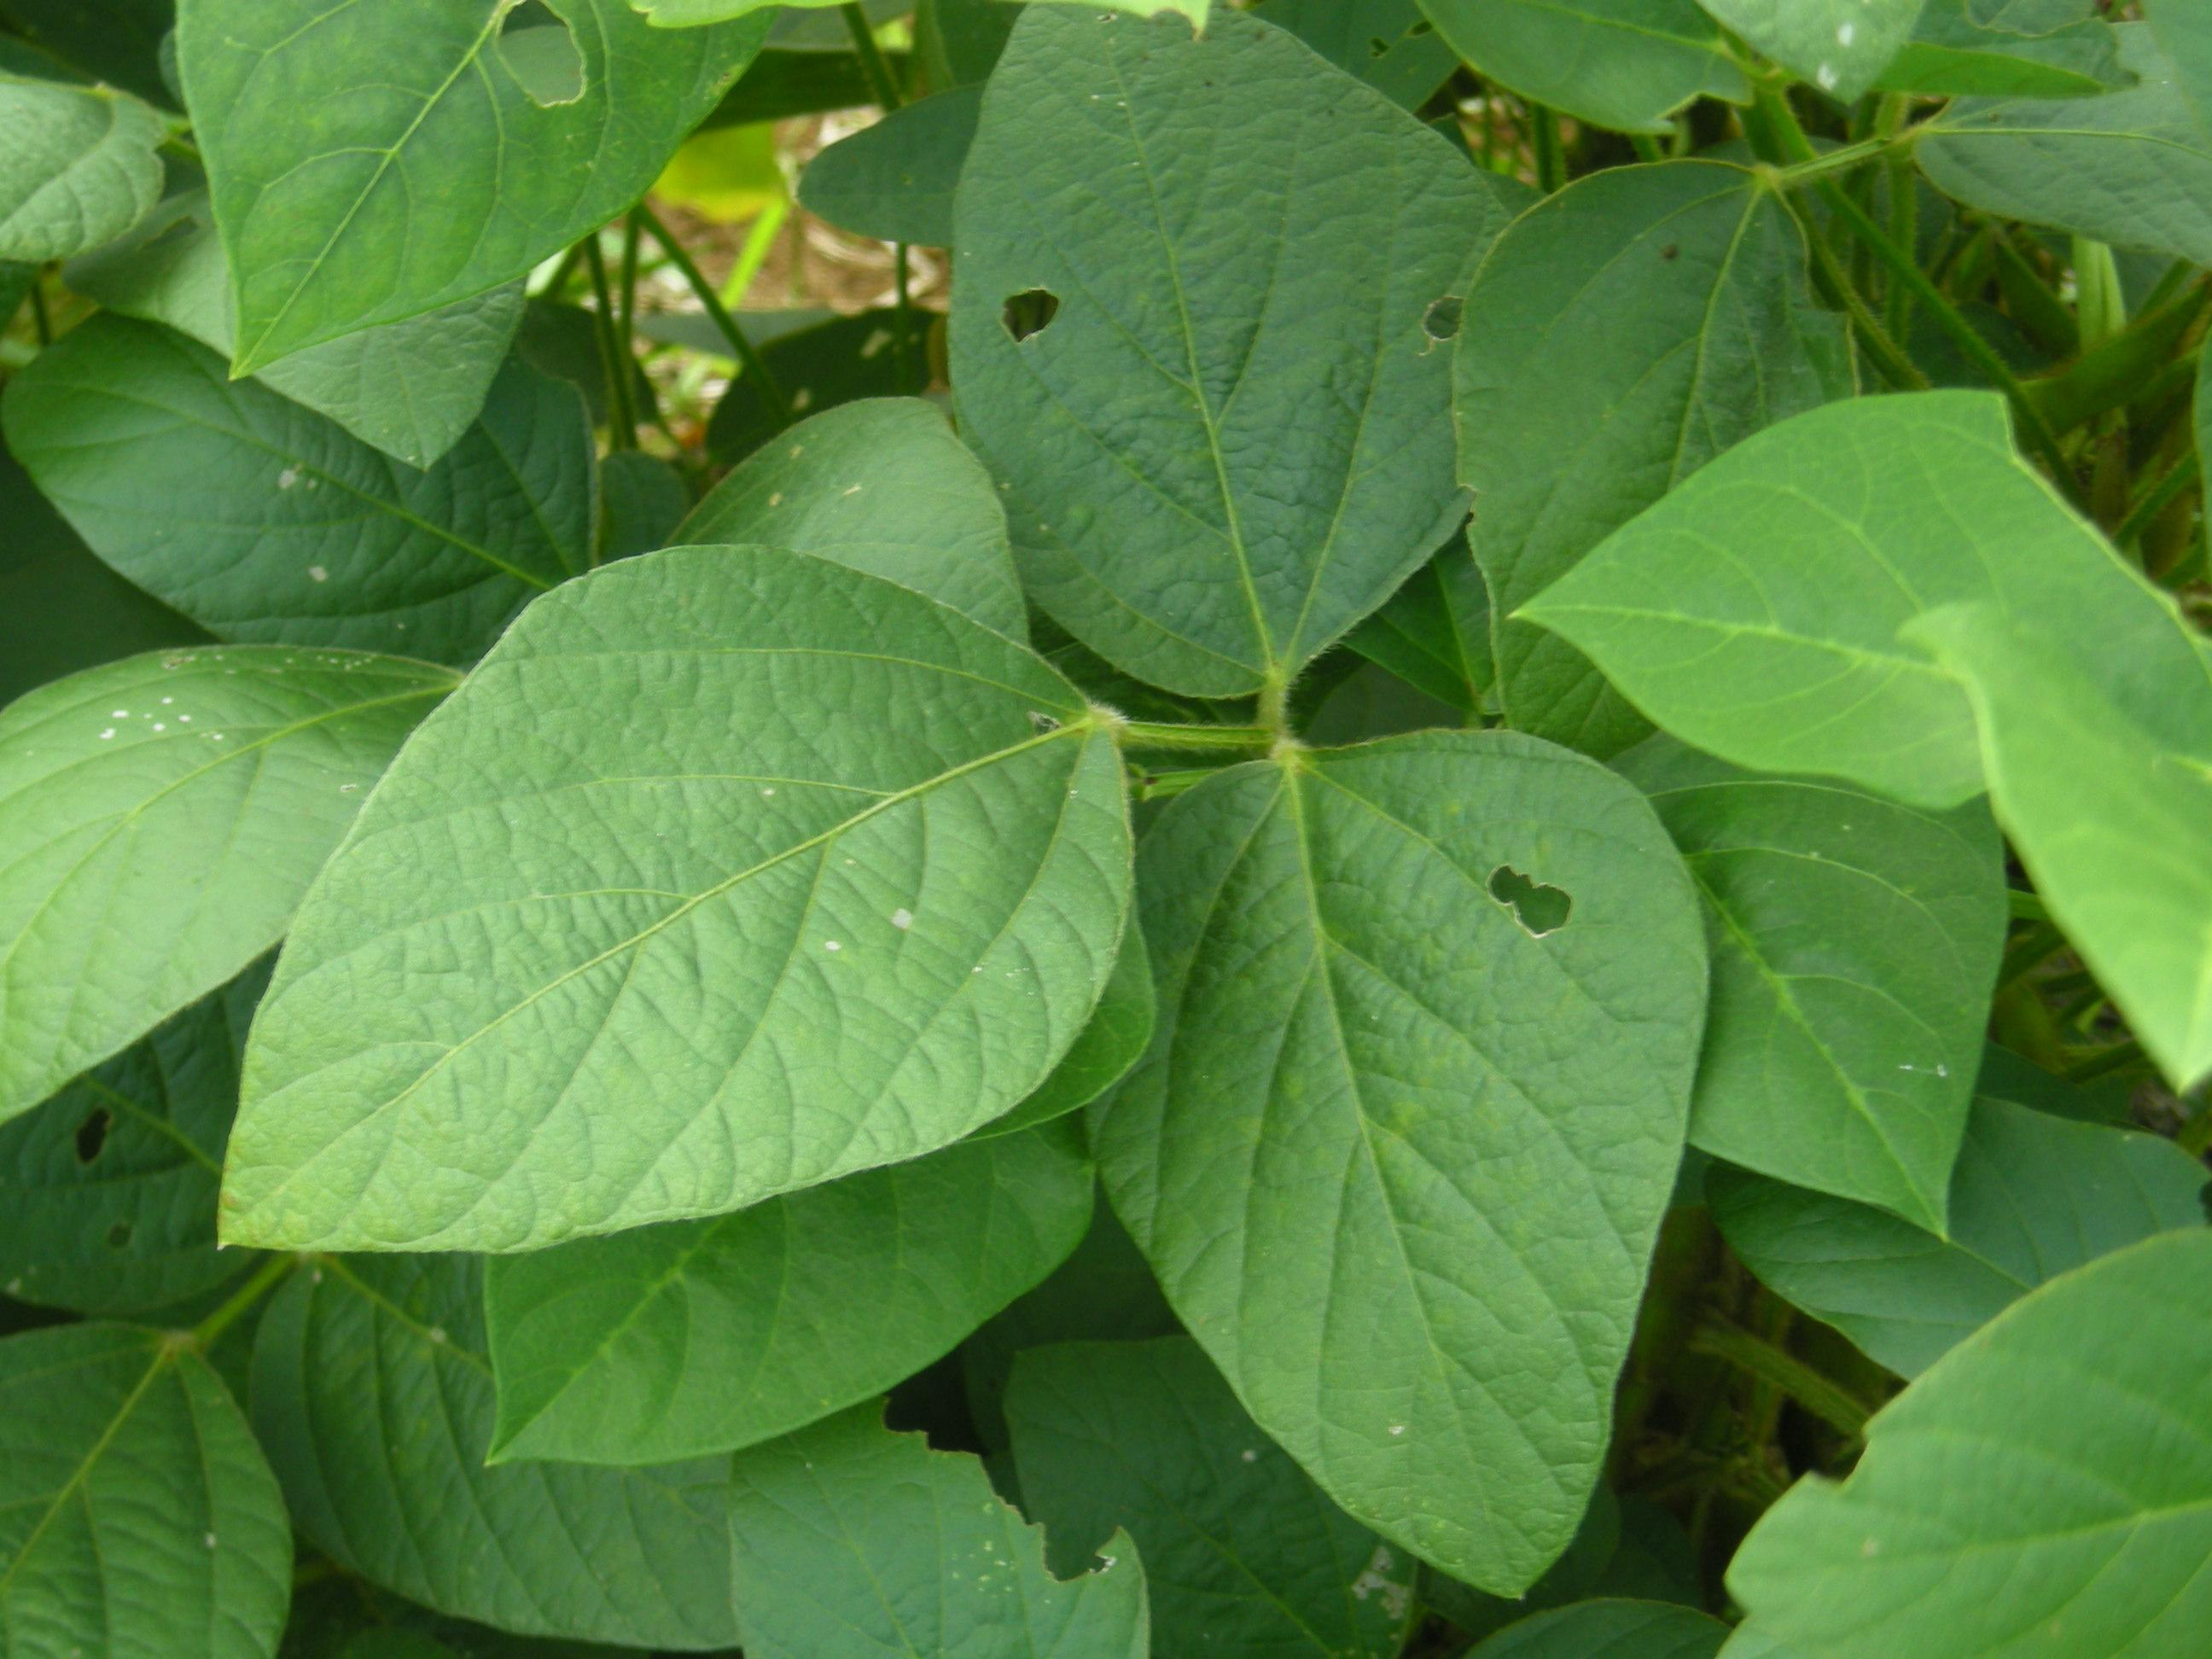Soyabean leaf: (211, 538, 1137, 1265), (1080, 727, 1714, 1605), (934, 0, 1531, 701), (1496, 382, 2212, 800)
